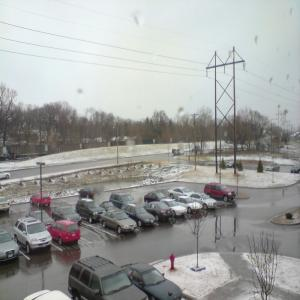Vehicle-registration-plate: (9, 255, 13, 258), (43, 245, 47, 248), (73, 235, 76, 237)
